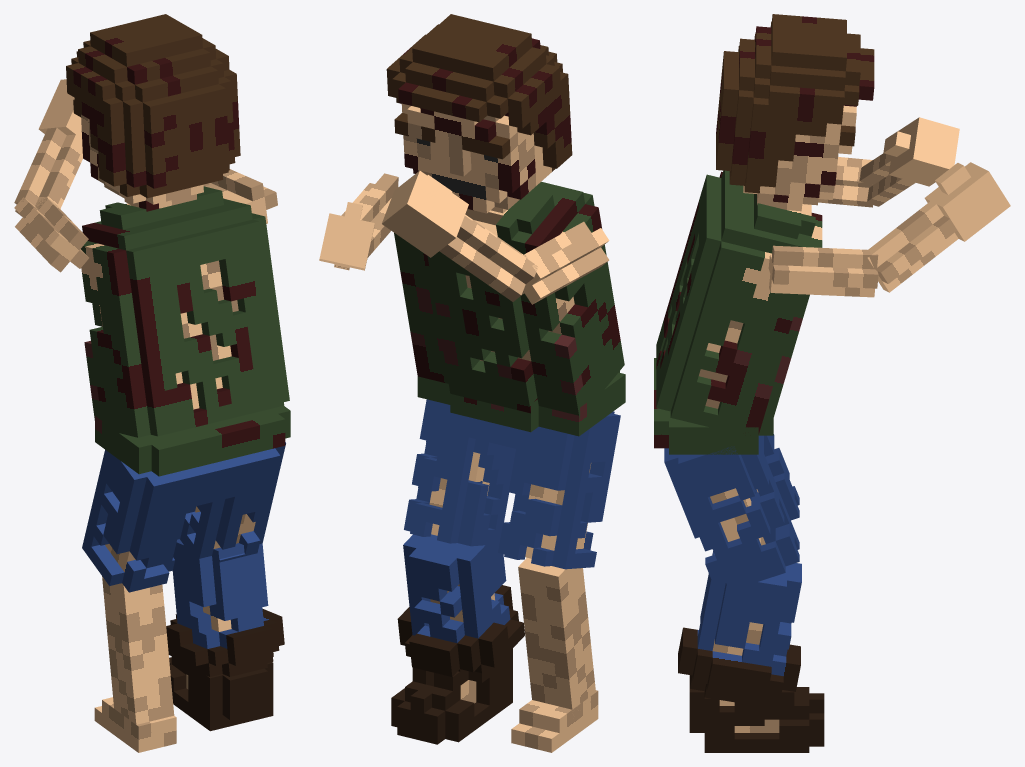
Rendered from Scared.dae.
3 renders of one model, left to right at view 1: azimuth 30°, elevation 25°; view 2: azimuth 150°, elevation 25°; view 3: azimuth 270°, elevation 25°, orthographic. The views are drawn at different scales.
Parts seen in each view (by area): view 1: Chest-local, Head-local, Right lower Leg-local, Left Upper Leg-local, Left Lower Leg-local, Hips-local, Right Upper Leg-local, RightFoot-local, Left Lower Arm-local, Left Upper Arm-local, Left Foot-local, Right Upper Arm-local (+1 smaller); view 2: Chest-local, Head-local, Right lower Leg-local, Left Upper Leg-local, Right Upper Leg-local, Left Lower Leg-local, RightFoot-local, Hips-local, Left Hand-local, Left Lower Arm-local, Left Upper Arm-local, Left Foot-local (+2 smaller); view 3: Chest-local, Head-local, Right lower Leg-local, Right Upper Leg-local, RightFoot-local, Right Upper Arm-local, Right Lower Arm-local, Right Hand-local, Hips-local, Left Hand-local, Left Upper Arm-local, Left Lower Arm-local (+1 smaller).
Boxes of the visible parts, left/top/right/bottom form: Chest-local: left=81, top=186, right=289, bottom=437; Head-local: left=66, top=14, right=240, bottom=211; Right lower Leg-local: left=166, top=539, right=284, bottom=676; Left Upper Leg-local: left=82, top=449, right=216, bottom=592; Left Lower Leg-local: left=102, top=576, right=174, bottom=724; Hips-local: left=95, top=405, right=290, bottom=476; Right Upper Leg-local: left=180, top=442, right=285, bottom=570; RightFoot-local: left=169, top=656, right=273, bottom=731; Left Lower Arm-local: left=14, top=127, right=82, bottom=216; Left Upper Arm-local: left=14, top=197, right=88, bottom=272; Left Foot-local: left=94, top=697, right=176, bottom=752; Right Upper Arm-local: left=205, top=169, right=277, bottom=223; Chest-local: left=394, top=181, right=624, bottom=419; Head-local: left=386, top=14, right=572, bottom=213; Right lower Leg-local: left=397, top=533, right=524, bottom=681; Left Upper Leg-local: left=496, top=411, right=620, bottom=569; Right Upper Leg-local: left=404, top=399, right=515, bottom=546; Left Lower Leg-local: left=518, top=558, right=595, bottom=710; RightFoot-local: left=391, top=648, right=512, bottom=744; Hips-local: left=417, top=371, right=625, bottom=436; Left Hand-local: left=382, top=170, right=468, bottom=257; Left Lower Arm-local: left=439, top=214, right=537, bottom=301; Left Upper Arm-local: left=522, top=221, right=609, bottom=304; Left Foot-local: left=511, top=690, right=598, bottom=752; Chest-local: left=656, top=170, right=822, bottom=434; Head-local: left=716, top=14, right=874, bottom=211; Right lower Leg-local: left=678, top=551, right=801, bottom=703; Right Upper Leg-local: left=664, top=435, right=799, bottom=583; RightFoot-local: left=689, top=675, right=824, bottom=752; Right Upper Arm-local: left=768, top=245, right=878, bottom=297; Right Lower Arm-local: left=867, top=201, right=958, bottom=292; Right Hand-local: left=924, top=162, right=1010, bottom=241; Hips-local: left=654, top=358, right=773, bottom=454; Left Hand-local: left=883, top=117, right=959, bottom=186; Left Upper Arm-local: left=818, top=157, right=872, bottom=207; Left Lower Arm-local: left=857, top=153, right=915, bottom=206.
Bounding box in the file's own units: 17.94 × 50.29 × 23.85.
15 materials, 15 textured.
